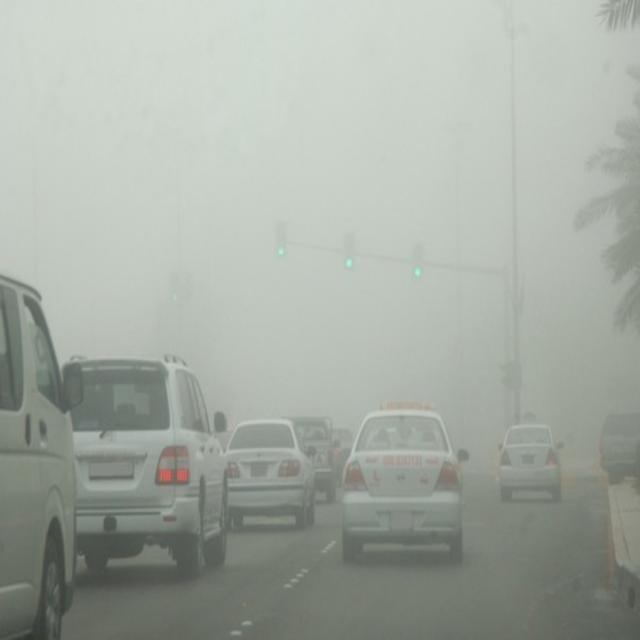car: (69, 353, 225, 579), (2, 265, 72, 636), (338, 406, 464, 565), (221, 417, 317, 531), (497, 420, 563, 502), (291, 412, 333, 500), (598, 410, 640, 484), (332, 417, 354, 480)
